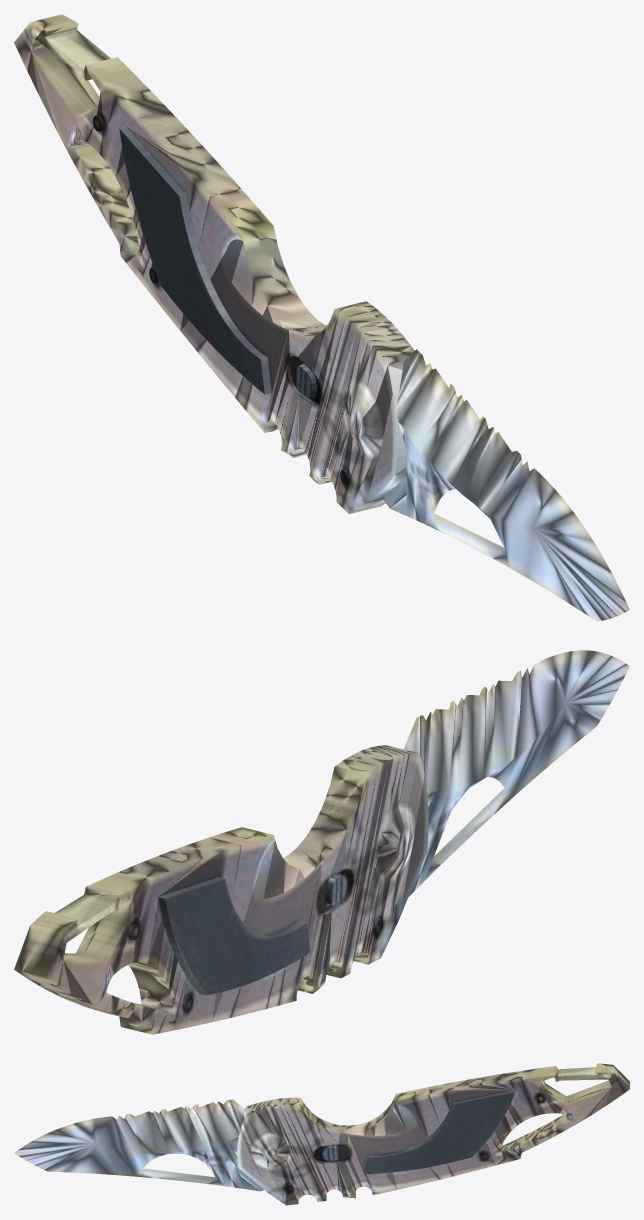
Rendered from model_align.obj.
3 views of the same model, one above another, from view 1: azimuth 30°, elevation 25°; view 2: azimuth 150°, elevation 25°; view 3: azimuth 270°, elevation 25° (orthographic). The views are drawn at different scales.
Size of the model in its own units: 0.00916 by 0.0478 by 0.1992.
Materials: 3 (3 with a texture image).
